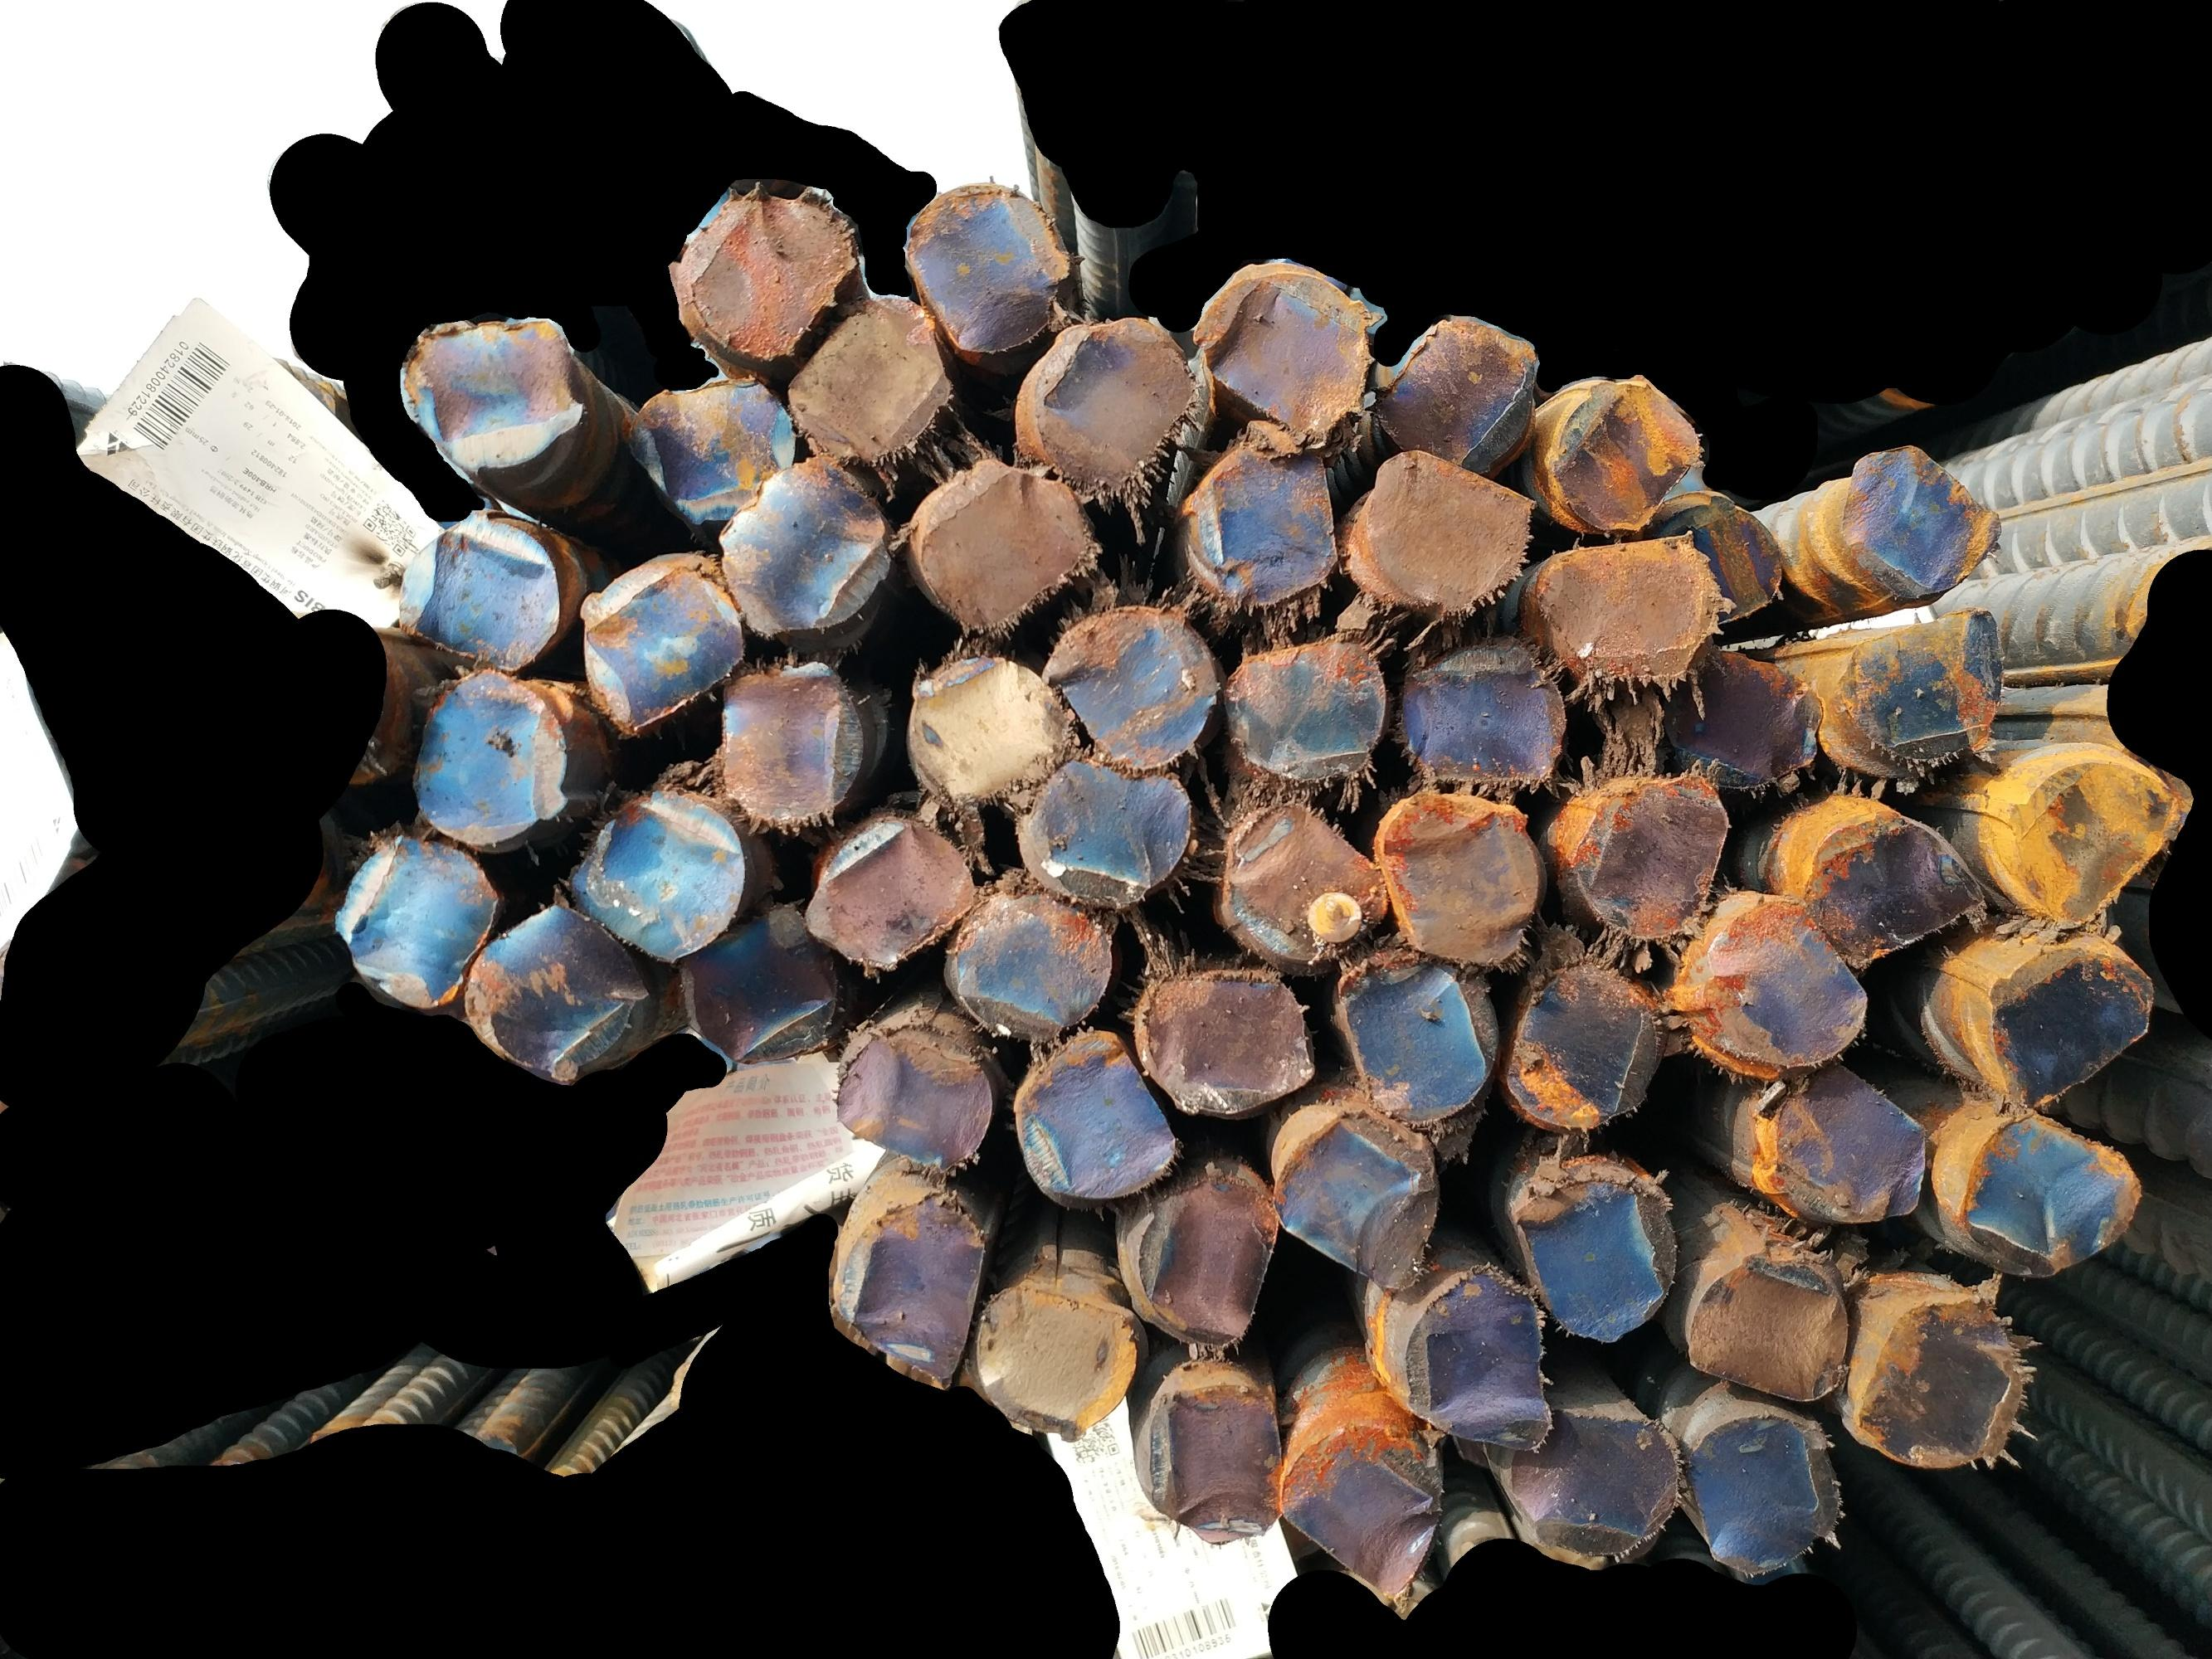bar: (900, 455, 1104, 642), (456, 897, 651, 1087), (666, 180, 862, 370), (709, 452, 902, 645), (1016, 313, 1202, 508), (556, 780, 752, 965), (1683, 892, 1878, 1077), (1847, 1292, 2037, 1477), (1186, 267, 1378, 450), (1265, 1105, 1449, 1295), (1956, 1105, 2151, 1284), (1269, 1419, 1452, 1608), (1368, 786, 1547, 974), (2000, 752, 2189, 930), (1391, 1260, 1559, 1461), (829, 1190, 995, 1393), (1178, 426, 1348, 622), (1527, 528, 1730, 693), (1006, 1021, 1186, 1207), (327, 829, 508, 1013), (1359, 444, 1542, 625), (1795, 810, 1993, 976), (1035, 601, 1222, 774), (405, 664, 577, 851), (1982, 937, 2161, 1116), (1501, 960, 1677, 1142), (1498, 1172, 1680, 1346), (1212, 795, 1395, 969), (799, 807, 987, 976), (707, 651, 875, 840), (1133, 951, 1323, 1118), (1831, 601, 2013, 776), (577, 556, 752, 736), (668, 897, 854, 1066), (780, 288, 957, 465), (389, 313, 583, 474), (897, 180, 1077, 353), (1388, 630, 1575, 795), (1763, 1053, 1935, 1228), (1568, 767, 1734, 948), (1015, 752, 1197, 915), (1501, 1403, 1691, 1559), (1323, 954, 1489, 1133), (1220, 625, 1394, 795), (942, 878, 1118, 1046), (896, 650, 1077, 814), (1128, 1169, 1284, 1357), (1366, 306, 1542, 472), (1653, 633, 1828, 799), (621, 367, 801, 527), (392, 508, 565, 672), (1678, 1247, 1858, 1404), (1838, 440, 2012, 601), (1683, 1406, 1842, 1580), (970, 1280, 1144, 1438), (1547, 368, 1710, 537), (829, 1019, 996, 1175), (1139, 1379, 1289, 1551), (1629, 491, 1788, 637)
